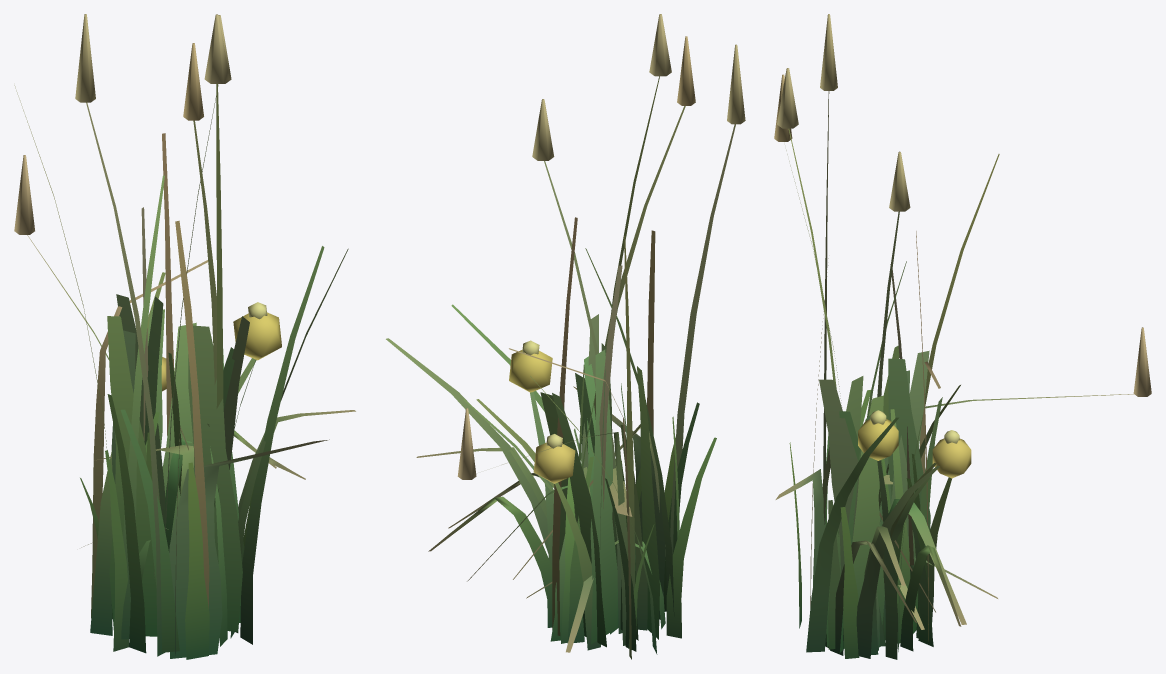
Rendered from grass_pack.glb.
The picture shows the model from 3 angles, left to right: view 1: azimuth 30°, elevation 25°; view 2: azimuth 150°, elevation 25°; view 3: azimuth 270°, elevation 25°; orthographic projection. The views are drawn at different scales.
Parts seen in each view (by area): view 1: grass_broad_clump, grass_wispy_seedhead, grass_wildflower_mix, grass_windswept, grass_sparse_dry, grass_lawn_dense; view 2: grass_broad_clump, grass_wispy_seedhead, grass_wildflower_mix, grass_windswept, grass_lawn_dense, grass_sparse_dry; view 3: grass_broad_clump, grass_windswept, grass_wildflower_mix, grass_wispy_seedhead, grass_lawn_dense, grass_sparse_dry.
Boxes of the visible parts, x1,y1,x2,y2 form: grass_broad_clump: (94, 294, 329, 658); grass_wispy_seedhead: (14, 14, 231, 656); grass_wildflower_mix: (105, 302, 281, 653); grass_windswept: (90, 246, 355, 644); grass_sparse_dry: (91, 133, 209, 617); grass_lawn_dense: (80, 412, 254, 659); grass_broad_clump: (540, 314, 665, 647); grass_wispy_seedhead: (457, 14, 745, 645); grass_wildflower_mix: (509, 340, 716, 650); grass_windswept: (386, 304, 665, 654); grass_lawn_dense: (550, 436, 675, 652); grass_sparse_dry: (509, 217, 655, 659); grass_broad_clump: (775, 343, 942, 652); grass_windswept: (806, 385, 966, 658); grass_wildflower_mix: (825, 390, 971, 659); grass_wispy_seedhead: (774, 14, 1151, 612); grass_lawn_dense: (789, 442, 997, 658); grass_sparse_dry: (810, 231, 940, 641).
Bounding box in the file's own units: 0.2673 × 0.5065 × 0.3004.
